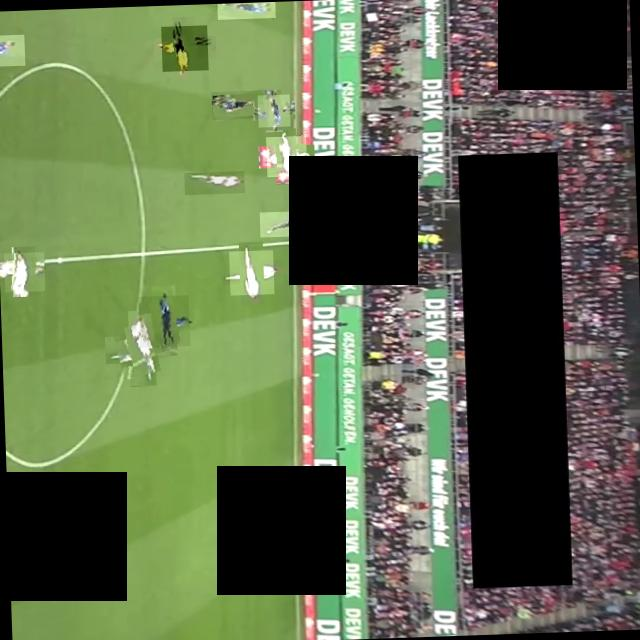referee: (160, 24, 208, 72)
soccer-player: (113, 320, 170, 378), (137, 294, 189, 348), (228, 250, 274, 296), (210, 90, 268, 120), (2, 252, 44, 292), (264, 136, 306, 176), (182, 170, 244, 194), (258, 210, 308, 237), (256, 94, 289, 127), (216, 2, 274, 20), (0, 34, 24, 66)
